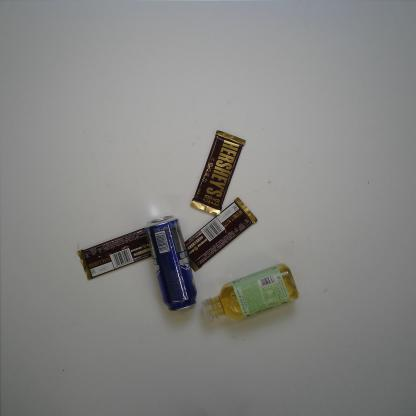Alcohol: (146, 216, 197, 312)
Chocolate: (183, 197, 258, 272), (190, 130, 246, 218), (76, 225, 160, 280)
Drink: (201, 262, 300, 321)
